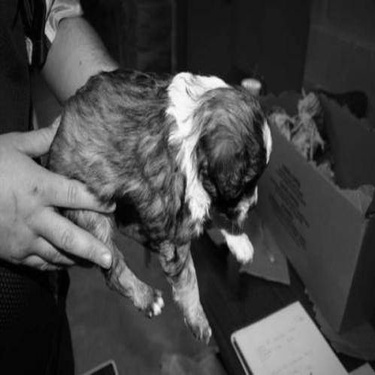dog: (42, 55, 282, 350), (266, 76, 340, 187)
